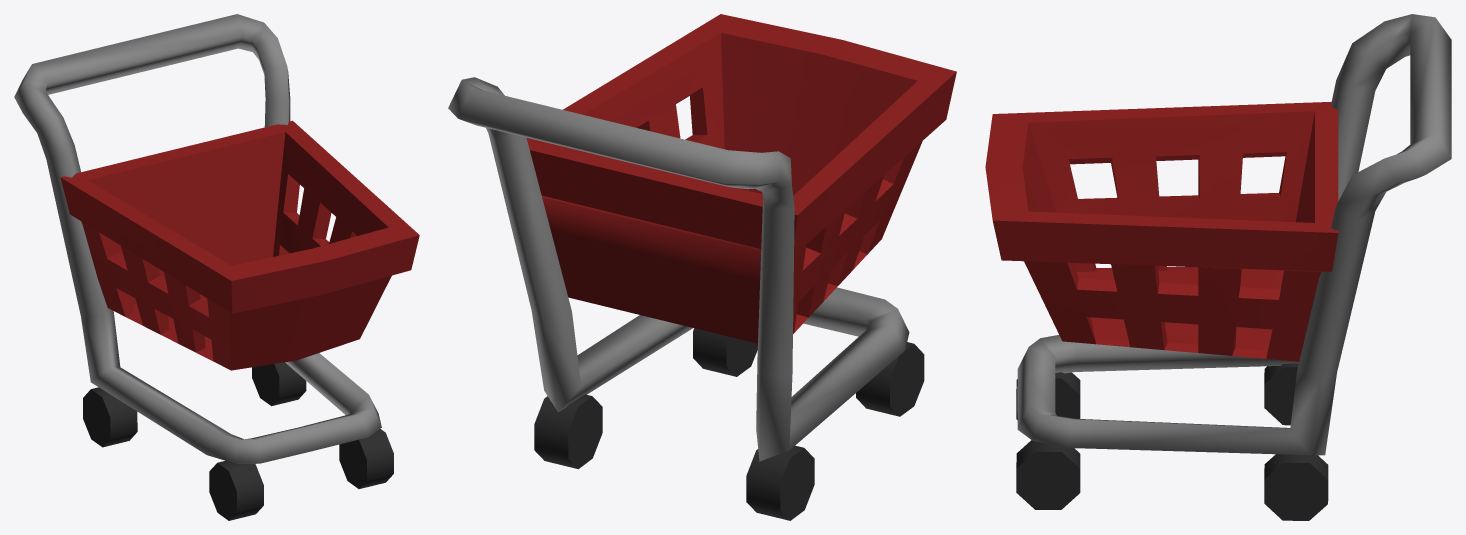
File: trolley_v1.fbx
3 renders of one model, left to right at view 1: azimuth 30°, elevation 25°; view 2: azimuth 150°, elevation 25°; view 3: azimuth 270°, elevation 25°, orthographic. The views are drawn at different scales.
Parts seen in each view (by area): view 1: trolley_v1; view 2: trolley_v1; view 3: trolley_v1.
Part boxes in pixels (bbox=[...]): trolley_v1: bbox=[14, 14, 419, 520]; trolley_v1: bbox=[448, 14, 956, 520]; trolley_v1: bbox=[985, 14, 1451, 520].
Bounding box in the file's own units: 66.61 × 83.3 × 90.19.
